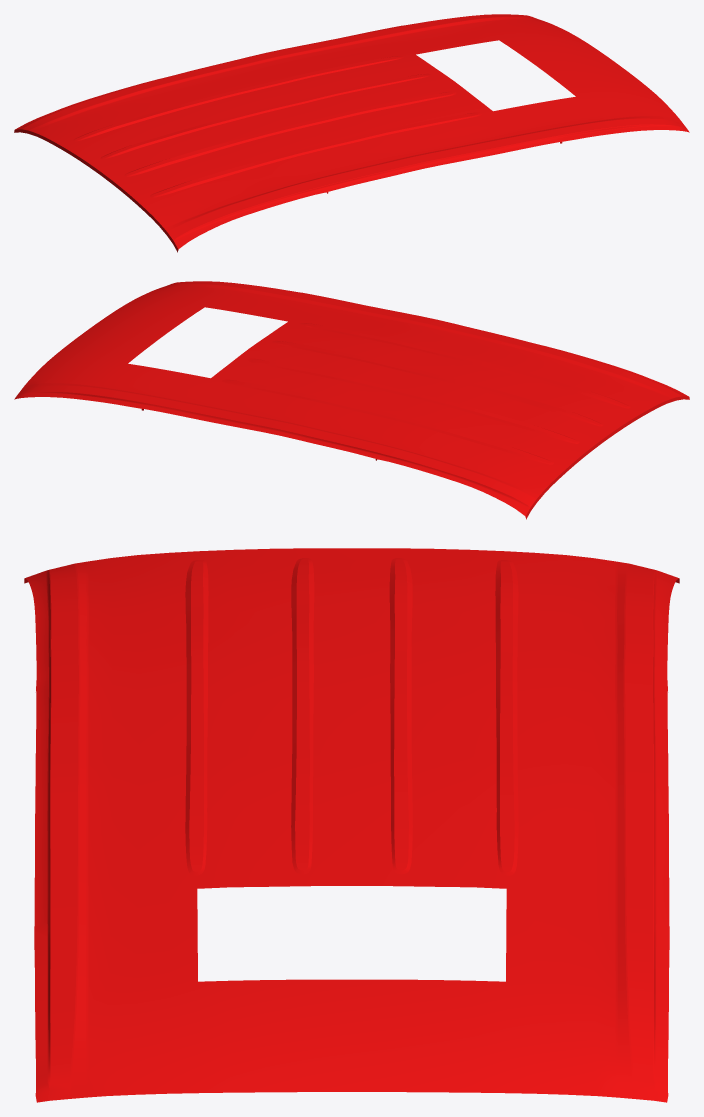
3 views of the same model, one above another, from view 1: azimuth 30°, elevation 25°; view 2: azimuth 150°, elevation 25°; view 3: azimuth 270°, elevation 25° (orthographic). The views are drawn at different scales.
Parts seen in each view (by area): view 1: N664_9A_341B_C_DaS_N664_9A_341B_C, N664_9A_341B_C_DaS_N664_9A_341B_C_E; view 2: N664_9A_341B_C_DaS_N664_9A_341B_C, N664_9A_341B_C_DaS_N664_9A_341B_C_E; view 3: N664_9A_341B_C_DaS_N664_9A_341B_C, N664_9A_341B_C_DaS_N664_9A_341B_C_E.
Boxes of the visible parts, x1,y1,x2,y2 form: N664_9A_341B_C_DaS_N664_9A_341B_C: [15, 14, 689, 249]; N664_9A_341B_C_DaS_N664_9A_341B_C_E: [14, 16, 678, 252]; N664_9A_341B_C_DaS_N664_9A_341B_C: [14, 281, 688, 516]; N664_9A_341B_C_DaS_N664_9A_341B_C_E: [25, 283, 689, 519]; N664_9A_341B_C_DaS_N664_9A_341B_C: [25, 548, 678, 1102]; N664_9A_341B_C_DaS_N664_9A_341B_C_E: [24, 558, 679, 1097].
Size of the model in its own units: 221 by 15.52 by 120.
